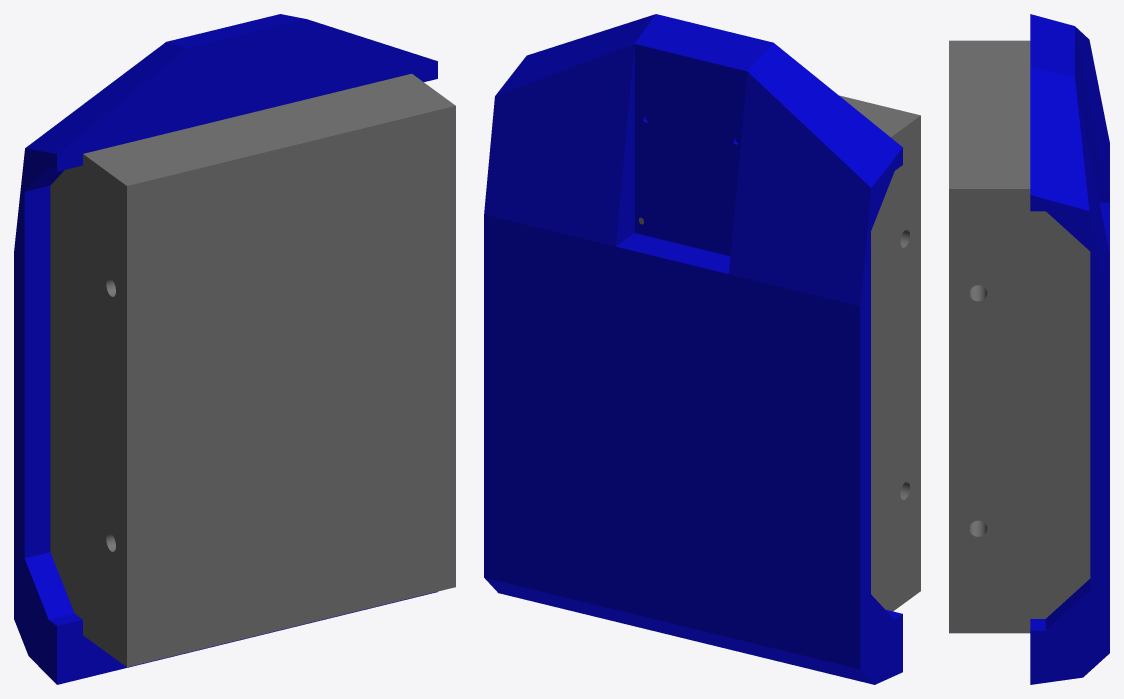
The model's file is body.dae.
3 views of the same model, side by side, from view 1: azimuth 30°, elevation 25°; view 2: azimuth 150°, elevation 25°; view 3: azimuth 270°, elevation 25° (orthographic). The views are drawn at different scales.
Visible parts, largest first — view 1: 组_1, 组_2; view 2: 组_2, 组_1; view 3: 组_1, 组_2.
Boxes of the visible parts, x1=… form: 组_1: x1=50, y1=73, x2=455, y2=667; 组_2: x1=14, y1=14, x2=437, y2=684; 组_2: x1=484, y1=14, x2=902, y2=684; 组_1: x1=639, y1=95, x2=920, y2=611; 组_1: x1=949, y1=40, x2=1090, y2=633; 组_2: x1=1030, y1=14, x2=1109, y2=684.
Bounding box in the file's own units: 19.69 × 7.8 × 29.88.
